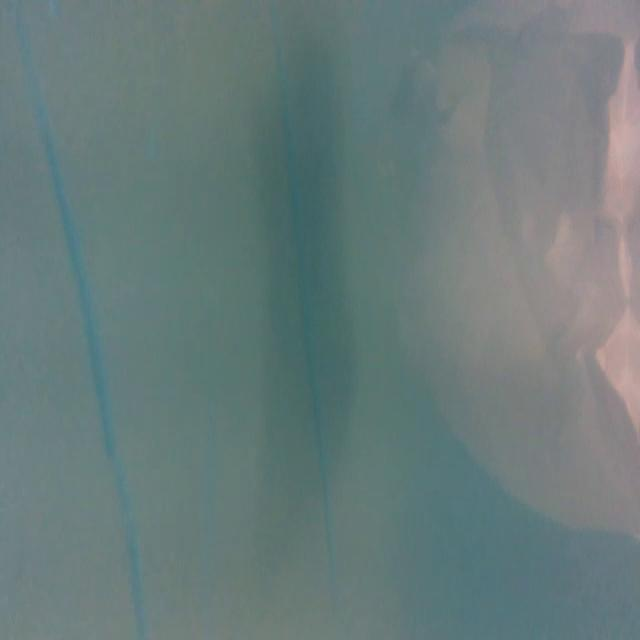plastic bags: (382, 2, 640, 541)
